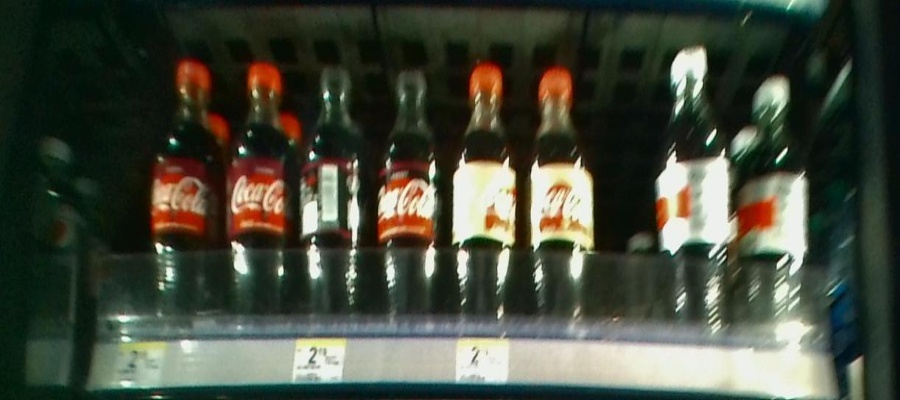bottle: (654, 45, 737, 341), (444, 52, 519, 320), (521, 59, 593, 326), (150, 43, 219, 318), (740, 68, 810, 336), (295, 64, 369, 316), (373, 55, 442, 320), (222, 53, 291, 314)
